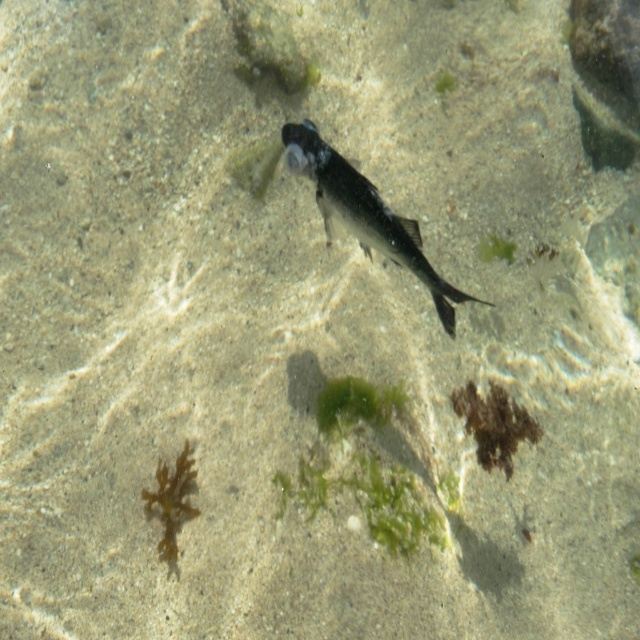Fish: (279, 130, 513, 333)
